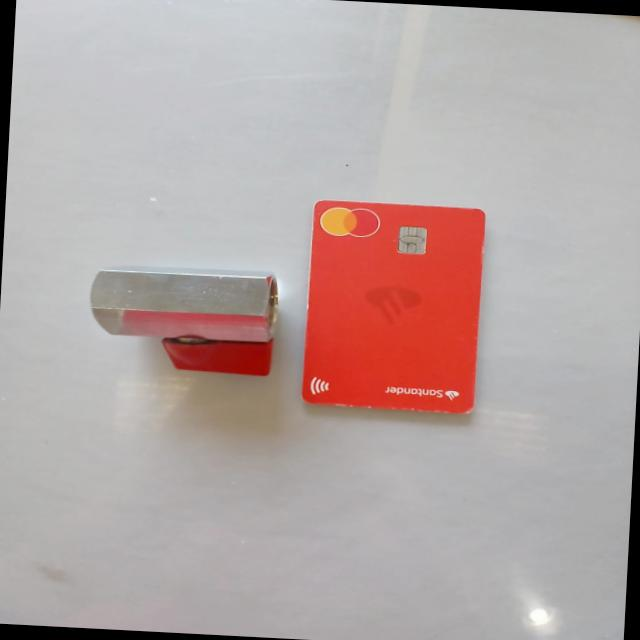cartao: (304, 200, 484, 414)
rosca_interna: (89, 264, 279, 376)
